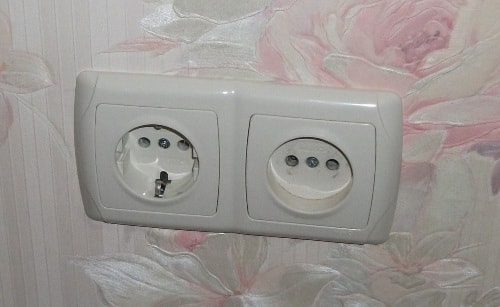raccoon: (263, 135, 356, 216), (110, 122, 200, 203)
